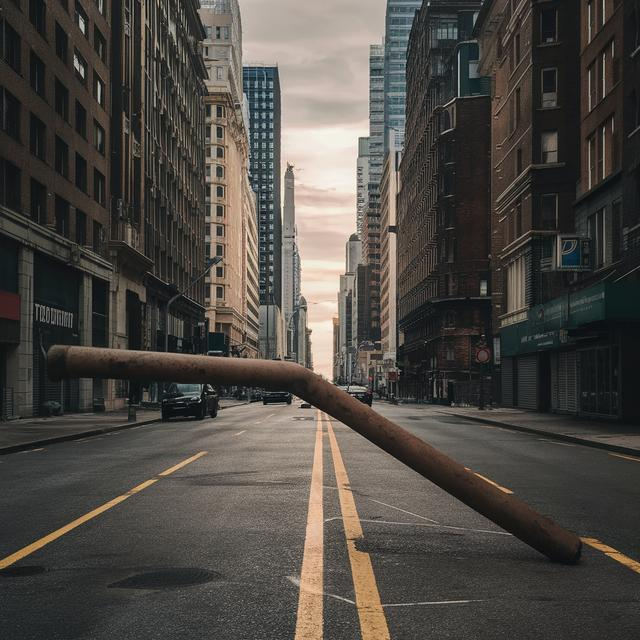Inclined Pole: (49, 343, 587, 569)
